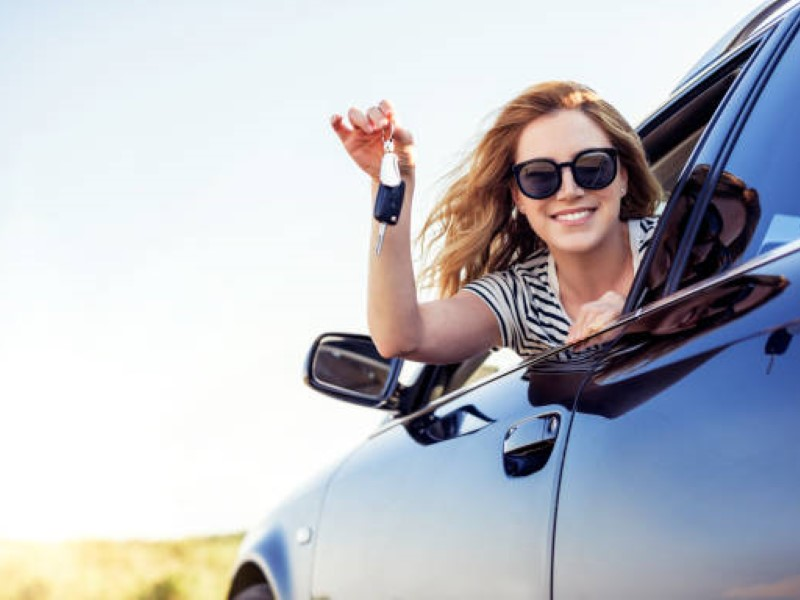carkey: (371, 173, 406, 258)
